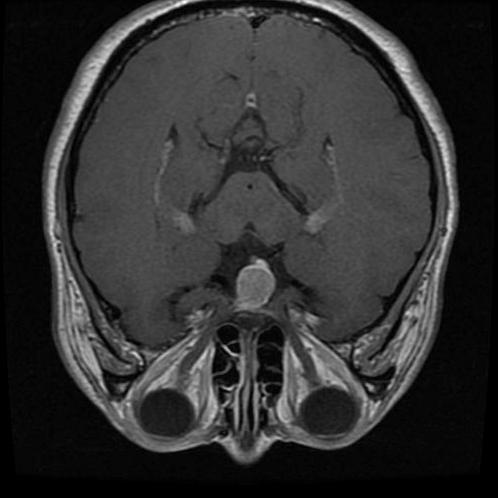Tumour-Pituitary: (228, 264, 283, 314)
